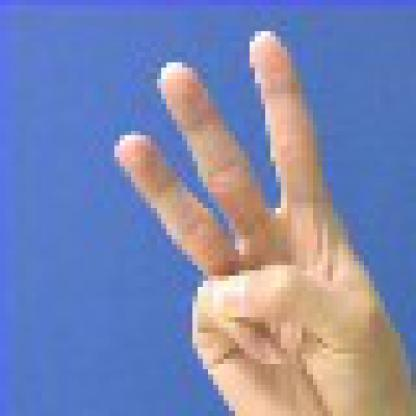three: (109, 21, 411, 411)
